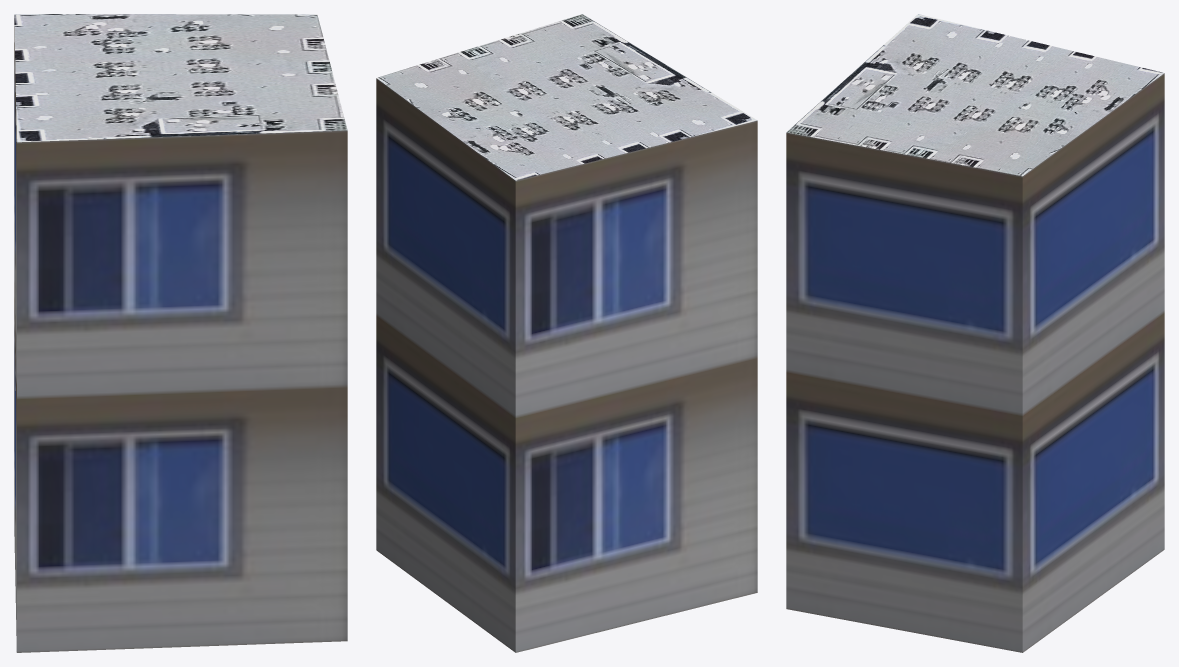
File: ResTex__1819.fbx
3 renders of one model, left to right at view 1: azimuth 30°, elevation 25°; view 2: azimuth 150°, elevation 25°; view 3: azimuth 270°, elevation 25°, orthographic. The views are drawn at different scales.
Visible parts, largest first — view 1: CityEngineMaterial_23_m, CityEngineMaterial_4_m; view 2: CityEngineMaterial_23_m, CityEngineMaterial_4_m; view 3: CityEngineMaterial_23_m, CityEngineMaterial_4_m.
Boxes of the visible parts, x1=… form: CityEngineMaterial_23_m: x1=14, y1=26, x2=347, y2=652; CityEngineMaterial_4_m: x1=14, y1=14, x2=347, y2=142; CityEngineMaterial_23_m: x1=376, y1=78, x2=757, y2=652; CityEngineMaterial_4_m: x1=376, y1=14, x2=757, y2=180; CityEngineMaterial_23_m: x1=786, y1=73, x2=1164, y2=652; CityEngineMaterial_4_m: x1=786, y1=14, x2=1164, y2=176.
Size of the model in its own units: 4.38 by 6 by 4.32.
Materials: 2 (2 with a texture image).
